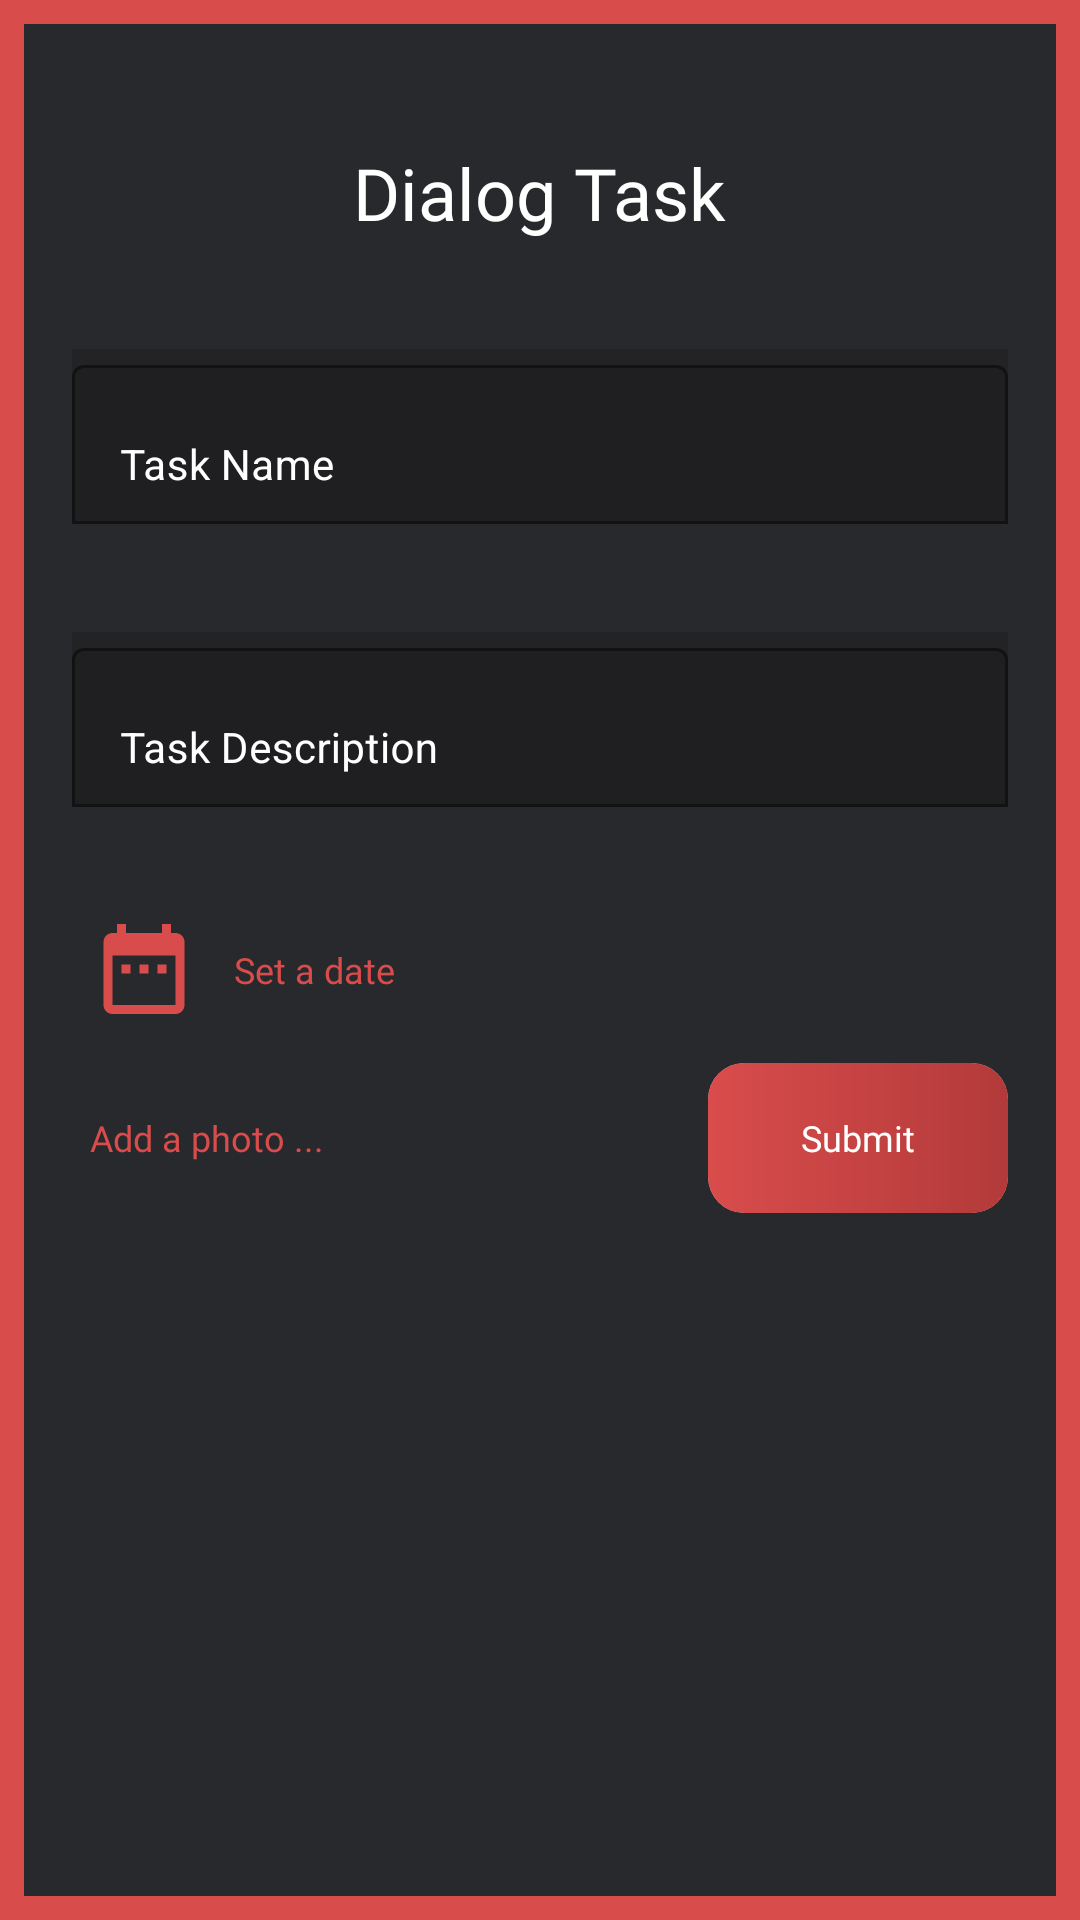

Icons on this 1080px×1920px Android screen, each with its box as (x1, y1, x2, y2):
date range: (103, 924, 185, 1014)
